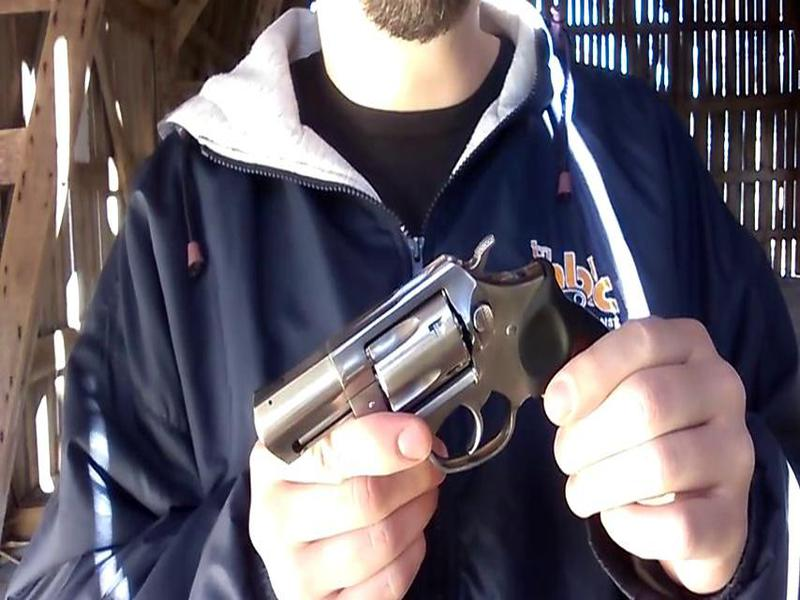Revolver: (233, 235, 608, 476)
